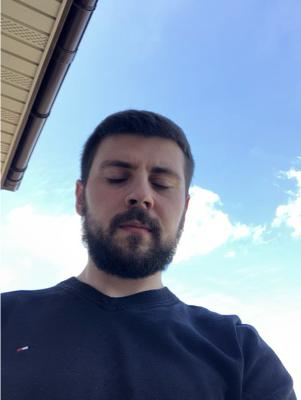without_mask: (85, 151, 183, 279)
